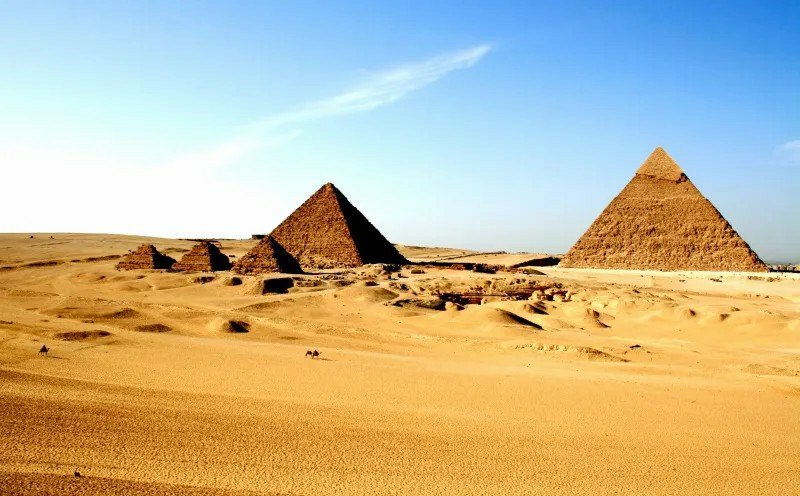Pyramid: (553, 145, 771, 272), (270, 184, 411, 265), (231, 237, 303, 273), (171, 242, 234, 273), (112, 244, 172, 271)
